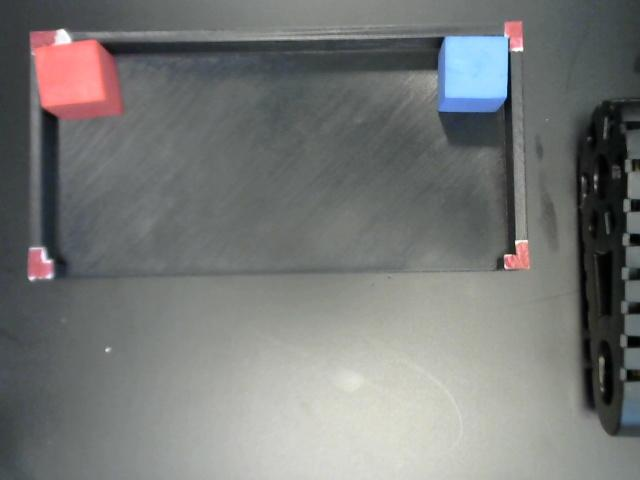cube: (33, 38, 121, 122), (439, 35, 508, 113)
